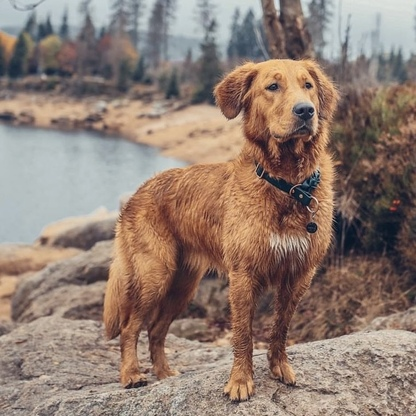labrado: (92, 53, 344, 409)
